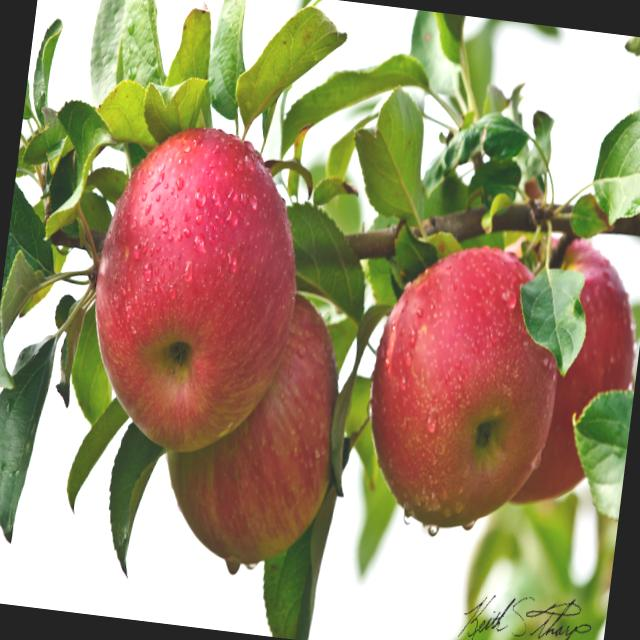apple: (75, 109, 319, 474), (353, 236, 573, 534), (142, 277, 358, 562), (448, 219, 640, 529)
